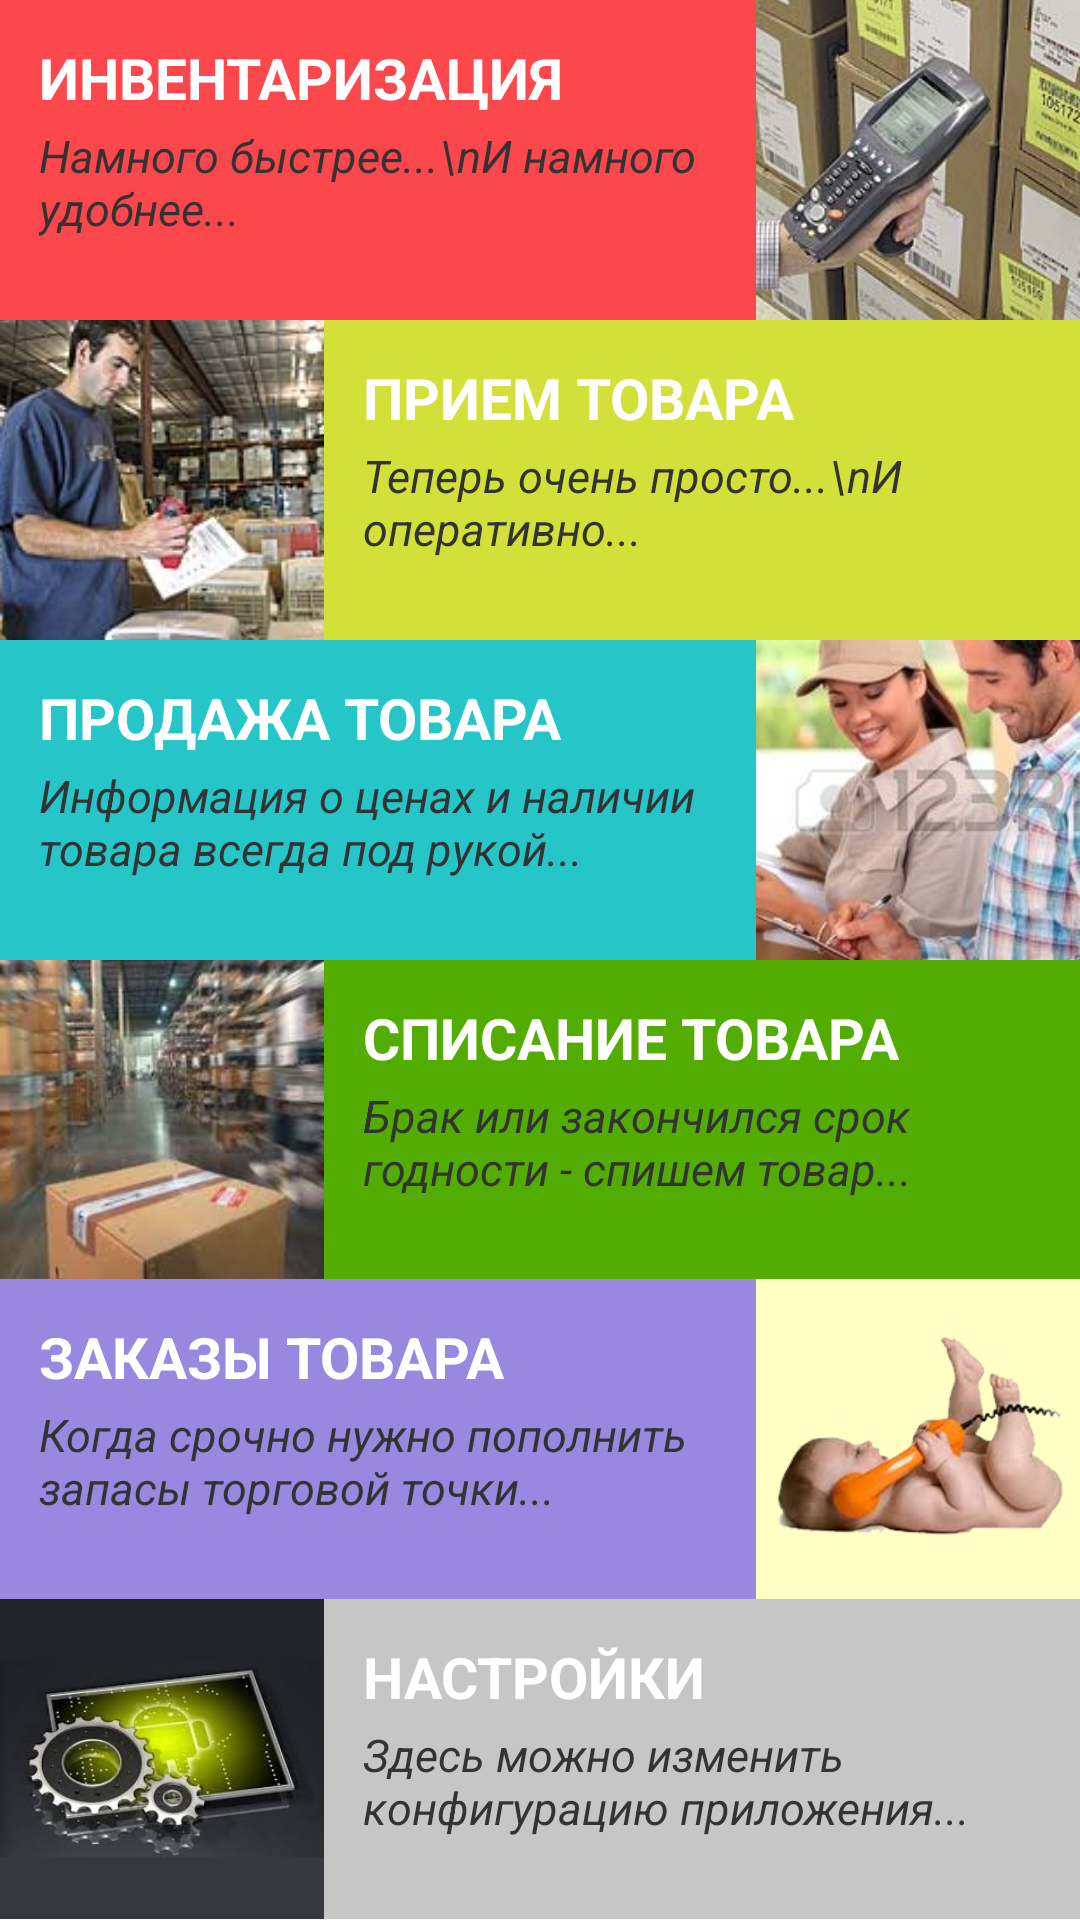

Icon click points for this 1080px×1920px phone screenshot, format (x=x, y=y):
inventory: (x=918, y=160)
order: (x=918, y=1439)
receipt: (x=162, y=480)
setting: (x=162, y=1759)
